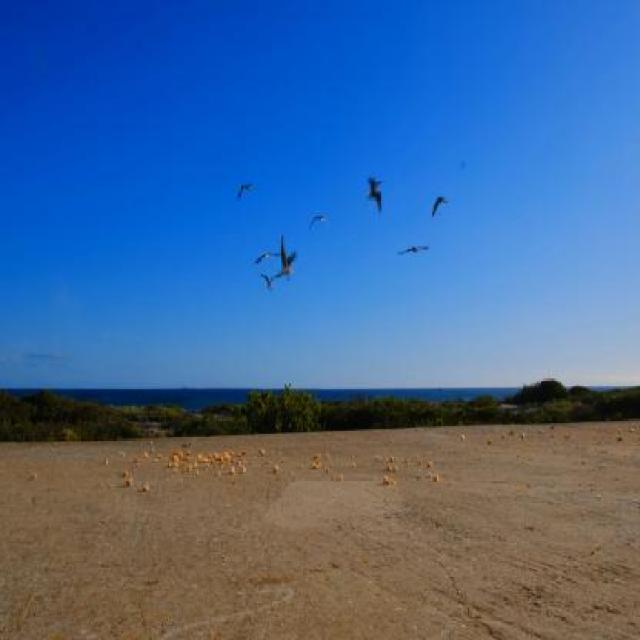bird: (278, 227, 298, 282), (364, 172, 384, 219), (308, 212, 332, 237), (433, 192, 450, 226), (398, 243, 432, 260), (258, 269, 282, 293), (252, 246, 280, 265), (236, 179, 253, 206)
